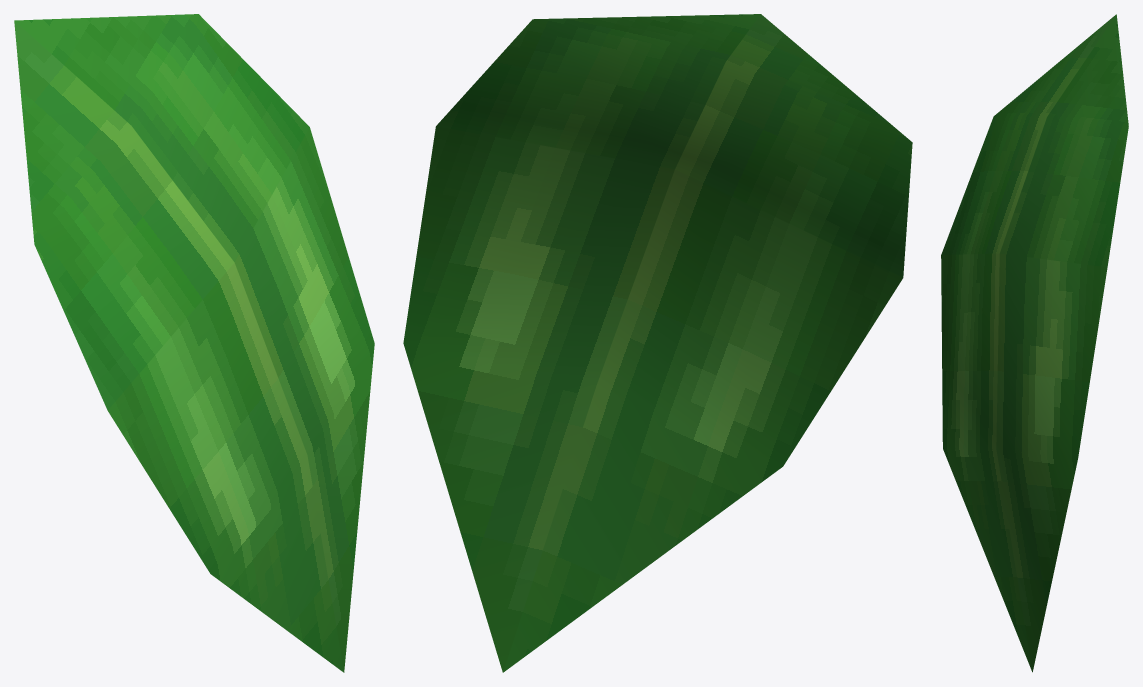
Rendered from EKH_BARRELROOM_PS_JA1_OBJECT127.fbx.
3 renders of one model, left to right at view 1: azimuth 30°, elevation 25°; view 2: azimuth 150°, elevation 25°; view 3: azimuth 270°, elevation 25°, orthographic. The views are drawn at different scales.
Parts seen in each view (by area): view 1: EKH_BARRELROOM_PS_JA1_OBJECT127; view 2: EKH_BARRELROOM_PS_JA1_OBJECT127; view 3: EKH_BARRELROOM_PS_JA1_OBJECT127.
Boxes of the visible parts, left/top/right/bottom form: EKH_BARRELROOM_PS_JA1_OBJECT127: left=14, top=14, right=374, bottom=672; EKH_BARRELROOM_PS_JA1_OBJECT127: left=403, top=14, right=912, bottom=672; EKH_BARRELROOM_PS_JA1_OBJECT127: left=941, top=14, right=1128, bottom=672.
Bounding box in the file's own units: 1984 × 3292 × 1019.
Materials: 1 (1 with a texture image).
